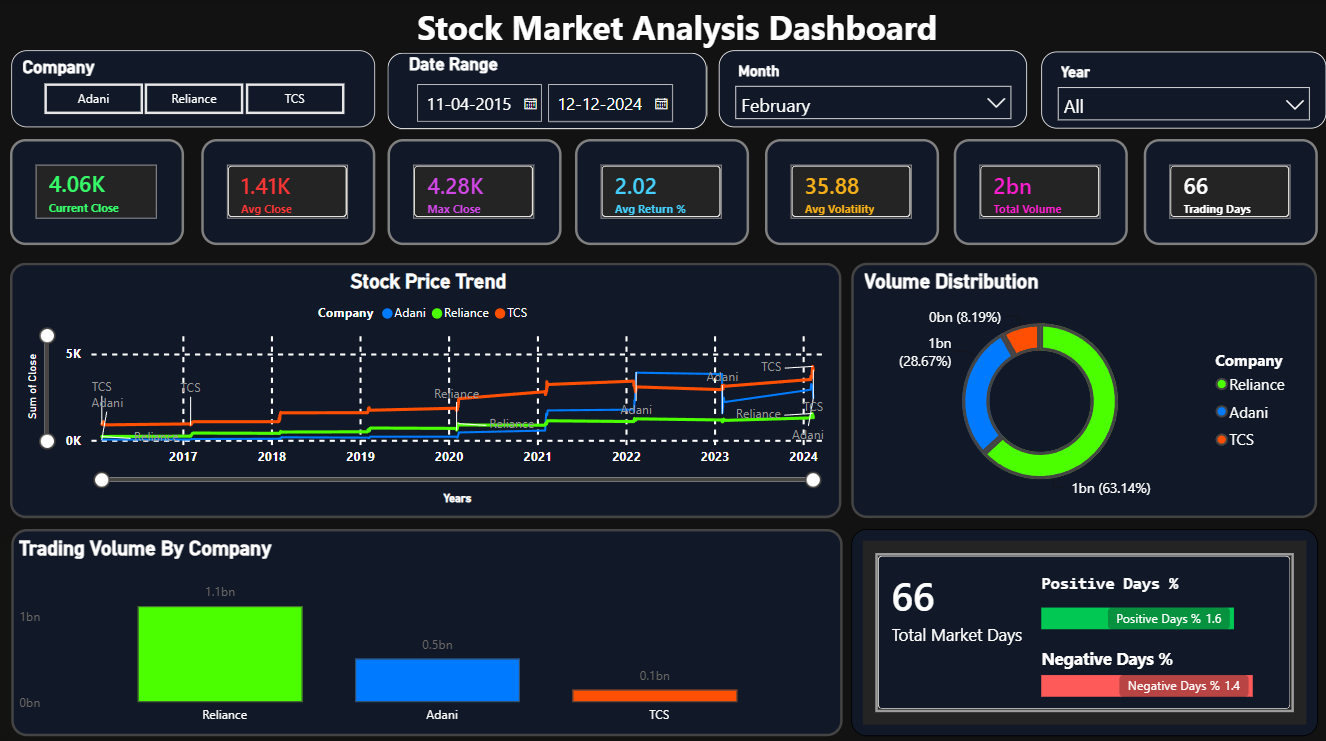

The dashboard page shown, as its layout file describes it:
{"tool":"powerbi","page":{"name":"📊 Executive Overview summery","canvas":[1280,720],"ordinal":0},"visuals":[{"type":"textbox","box":[325.2,0,655.9,101.5],"z":0},{"type":"slicer","title":"Company","fields":{"Values":["feature_engineered_stock_data.Company"]},"box":[10.9,49.5,351.1,74.8],"z":1000},{"type":"slicer","title":"Date Range ","fields":{"Values":["feature_engineered_stock_data.Date"]},"box":[374,51.9,307.6,73.6],"z":2000},{"type":"slicer","fields":{"Values":["feature_engineered_stock_data.Month"]},"box":[693.7,49.5,298,74.8],"z":3000},{"type":"lineChart","title":"Stock Price Trend","fields":{"Y":["Sum(feature_engineered_stock_data.Close)"],"Category":["feature_engineered_stock_data.Date"],"Series":["feature_engineered_stock_data.Company"]},"box":[9.7,254.6,802.7,246.2],"z":4000},{"type":"donutChart","title":"Volume Distribution","fields":{"Category":["feature_engineered_stock_data.Company"],"Y":["Sum(feature_engineered_stock_data.Volume)"]},"box":[822.1,254.6,449.9,246.2],"z":5000},{"type":"clusteredColumnChart","title":"Trading Volume By Company","fields":{"Category":["feature_engineered_stock_data.Company"],"Y":["Sum(feature_engineered_stock_data.Volume)"]},"box":[10.9,511.5,802.3,200.3],"z":6000},{"type":"cardVisual","fields":{"Data":["Measure Table.Total Market Days"]},"box":[821.6,511.5,450,200.3],"z":7000},{"type":"clusteredBarChart","fields":{"Y":["Measure Table.Positive Days %"]},"box":[1000.1,546.5,246.1,96.5],"z":8000},{"type":"textbox","box":[1000.1,550.1,176.1,61.5],"z":9000},{"type":"clusteredBarChart","fields":{"Y":["Measure Table.Negative Days %"]},"box":[1000.1,611.7,246.1,96.5],"z":10000},{"type":"textbox","box":[1000.1,620.1,211.1,44.6],"z":11000},{"type":"cardVisual","fields":{"Data":["Measure Table.Current Close"]},"box":[9.7,135.1,167.7,102.5],"z":12000},{"type":"cardVisual","fields":{"Data":["Measure Table.Avg Close"]},"box":[194.2,135.1,167.7,102.5],"z":13000},{"type":"cardVisual","fields":{"Data":["Measure Table.Max Close"]},"box":[374,135.1,167.7,102.5],"z":14000},{"type":"cardVisual","fields":{"Data":["Measure Table.Avg Return %"]},"box":[555,135.1,167.7,102.5],"z":15000},{"type":"cardVisual","fields":{"Data":["Measure Table.Avg Volatility"]},"box":[738.3,135.1,167.7,102.5],"z":16000},{"type":"cardVisual","fields":{"Data":["Measure Table.Total Volume"]},"box":[920.5,135.1,167.7,102.5],"z":17000},{"type":"cardVisual","fields":{"Data":["Measure Table.Trading Days"]},"box":[1103.9,135.1,167.7,102.5],"z":18000},{"type":"slicer","fields":{"Values":["feature_engineered_stock_data.Year"]},"box":[1005,50.7,275.1,74.8],"z":19000}]}

Visuals, with their boxes in screenshot pixels (x1, y1, x2, y2), scaled from the page's 1280x720 canvas onto the 1326x741 screenshot:
textbox: x1=337, y1=0, x2=1016, y2=104
"Company" slicer: x1=11, y1=51, x2=375, y2=128
"Date Range " slicer: x1=387, y1=53, x2=706, y2=129
slicer - feature_engineered_stock_data.Month: x1=719, y1=51, x2=1027, y2=128
"Stock Price Trend" lineChart: x1=10, y1=262, x2=842, y2=515
"Volume Distribution" donutChart: x1=852, y1=262, x2=1318, y2=515
"Trading Volume By Company" clusteredColumnChart: x1=11, y1=526, x2=842, y2=733
cardVisual - Measure Table.Total Market Days: x1=851, y1=526, x2=1317, y2=733
clusteredBarChart - Measure Table.Positive Days %: x1=1036, y1=562, x2=1291, y2=662
textbox: x1=1036, y1=566, x2=1218, y2=629
clusteredBarChart - Measure Table.Negative Days %: x1=1036, y1=630, x2=1291, y2=729
textbox: x1=1036, y1=638, x2=1255, y2=684
cardVisual - Measure Table.Current Close: x1=10, y1=139, x2=184, y2=245
cardVisual - Measure Table.Avg Close: x1=201, y1=139, x2=375, y2=245
cardVisual - Measure Table.Max Close: x1=387, y1=139, x2=561, y2=245
cardVisual - Measure Table.Avg Return %: x1=575, y1=139, x2=749, y2=245
cardVisual - Measure Table.Avg Volatility: x1=765, y1=139, x2=939, y2=245
cardVisual - Measure Table.Total Volume: x1=954, y1=139, x2=1127, y2=245
cardVisual - Measure Table.Trading Days: x1=1144, y1=139, x2=1317, y2=245
slicer - feature_engineered_stock_data.Year: x1=1041, y1=52, x2=1325, y2=129
